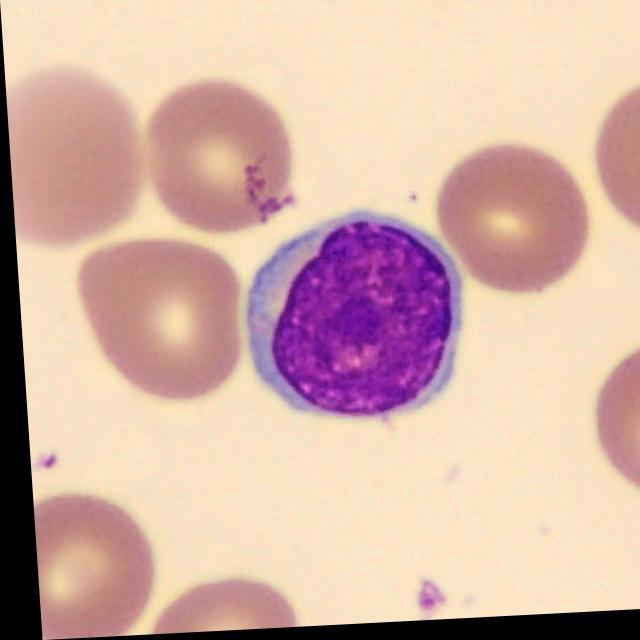Linfocito: (240, 214, 462, 422)
